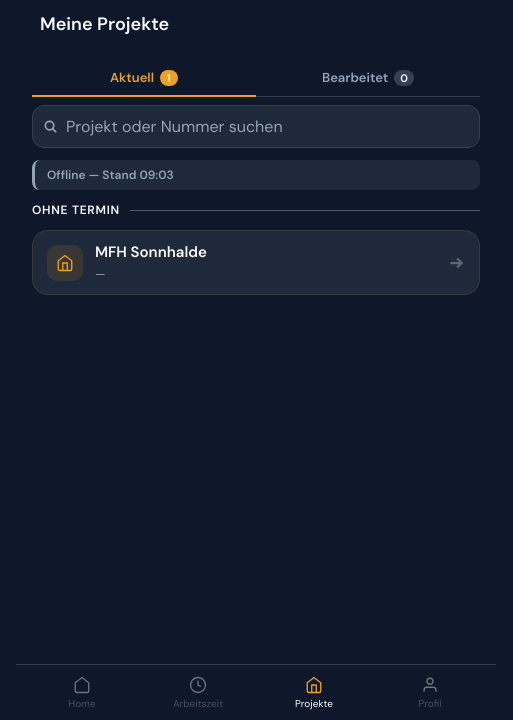
Test: Einstieg ins Offline-Formular › bleibt ohne Feature gesperrt und sagt warum
Click the text "MFH Sonnhalde" at (151,252), box [95,242,207,262]
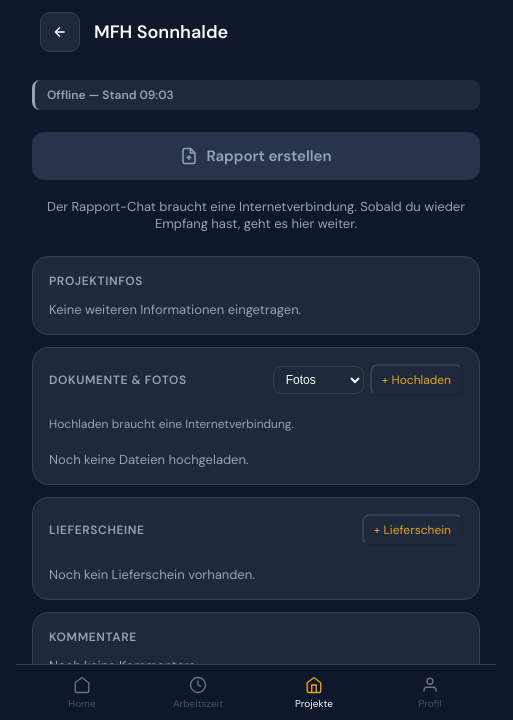
Result: the button "Rapport erstellen" is disabled at [32,132,480,180]
Result: the text "Der Rapport-Chat braucht eine Internetverbindung" is shown at [47,198,465,232]
